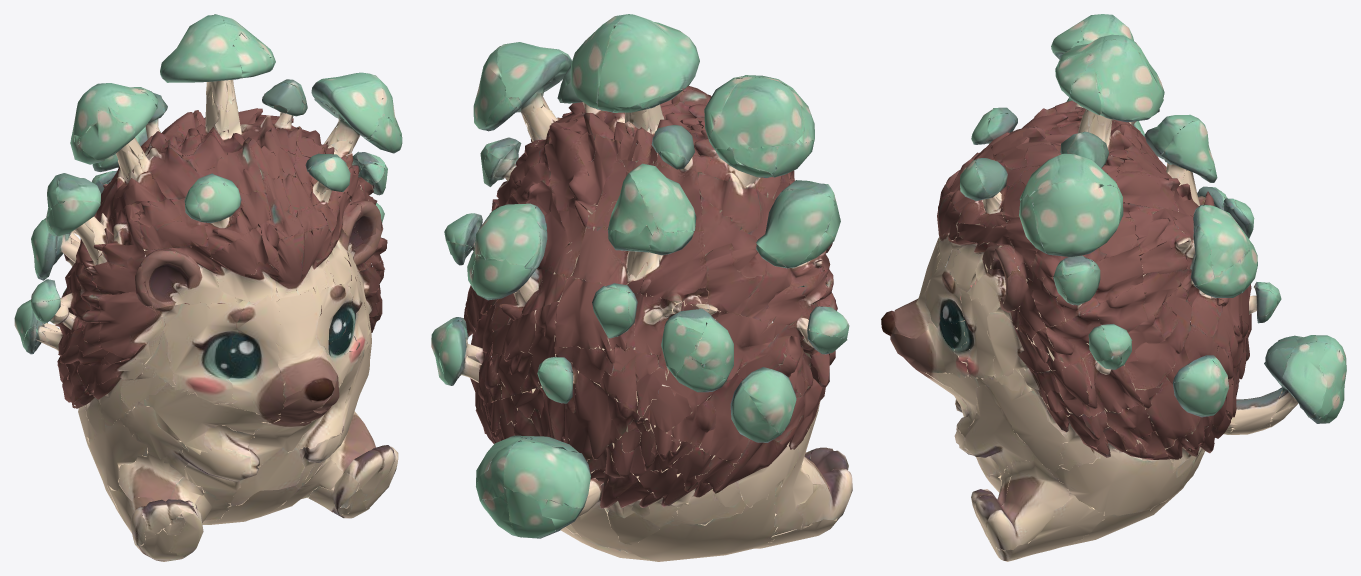
3 renders of one model, left to right at view 1: azimuth 30°, elevation 25°; view 2: azimuth 150°, elevation 25°; view 3: azimuth 270°, elevation 25°, orthographic. The views are drawn at different scales.
Parts seen in each view (by area): view 1: Mesh_0; view 2: Mesh_0; view 3: Mesh_0.
Boxes of the visible parts, x1=… form: Mesh_0: x1=14, y1=14, x2=402, y2=561; Mesh_0: x1=431, y1=14, x2=852, y2=561; Mesh_0: x1=881, y1=14, x2=1346, y2=561.
Size of the model in its own units: 1.47 by 1.9 by 1.67.
1 material, 1 textured.
